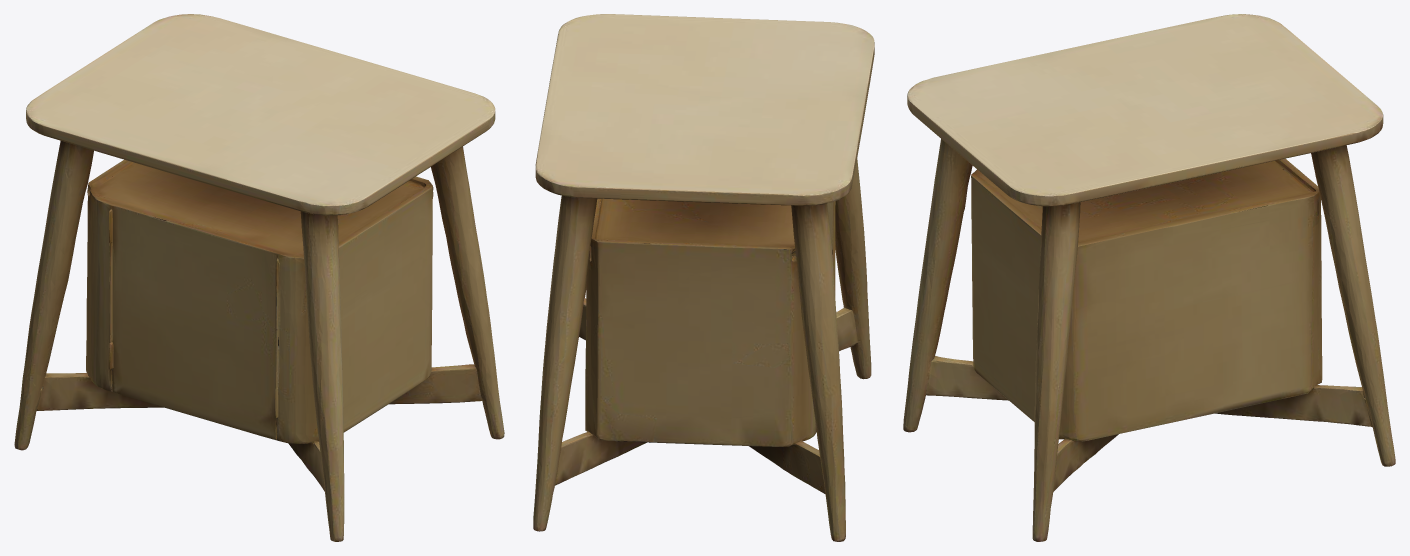
File: light_wood_nightstand_000.glb
3 views of the same model, side by side, from view 1: azimuth 30°, elevation 25°; view 2: azimuth 150°, elevation 25°; view 3: azimuth 270°, elevation 25° (orthographic). The views are drawn at different scales.
Visible parts, largest first — view 1: phase2_final_light_wood_nightstand_000.obj; view 2: phase2_final_light_wood_nightstand_000.obj; view 3: phase2_final_light_wood_nightstand_000.obj.
Part boxes in pixels (x1,y1,x2,y2): phase2_final_light_wood_nightstand_000.obj: [14, 14, 504, 541]; phase2_final_light_wood_nightstand_000.obj: [533, 14, 874, 541]; phase2_final_light_wood_nightstand_000.obj: [903, 14, 1395, 541].
Bounding box in the file's own units: 0.3294 × 0.2803 × 0.3607.
Materials: 1 (1 with a texture image).
